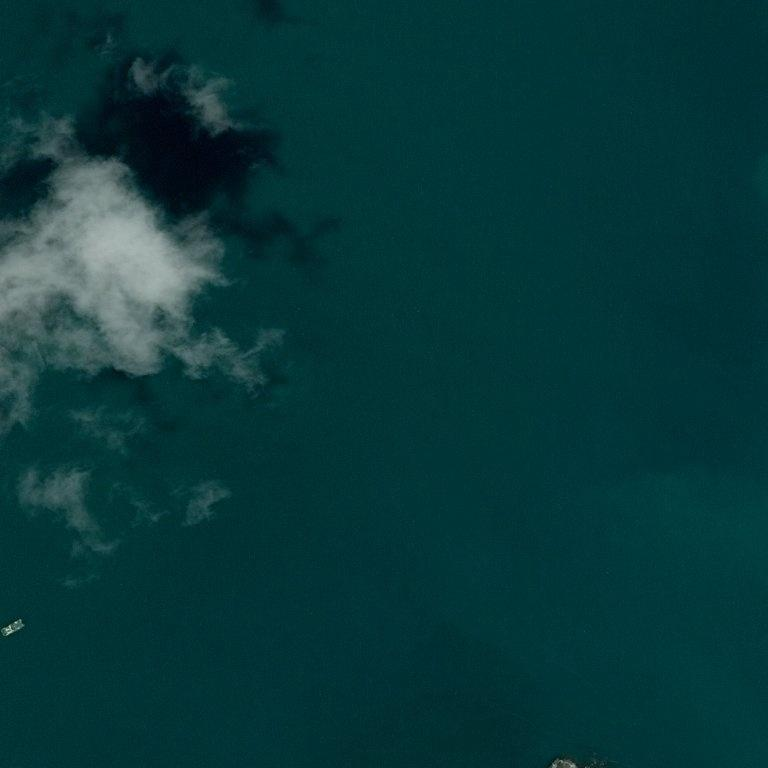ship: (0, 608, 22, 632), (19, 617, 22, 621), (22, 623, 25, 627), (1, 633, 3, 635)
